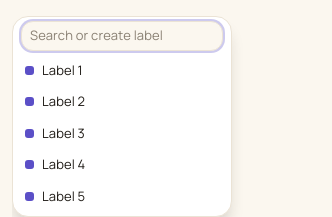
Test case: LabelPicker › with five labels › with Pro, a new name still offers Create
(page scrolled)
Type "Marketing" into the field with placeholder "Search or create label". click: point(122, 36)
box: [21,21,223,50]
(page scrolled)
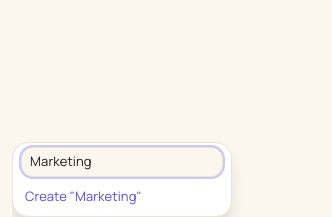
Expected: the button "Create \"Marketing\"" is shown, [13,180,231,212]
